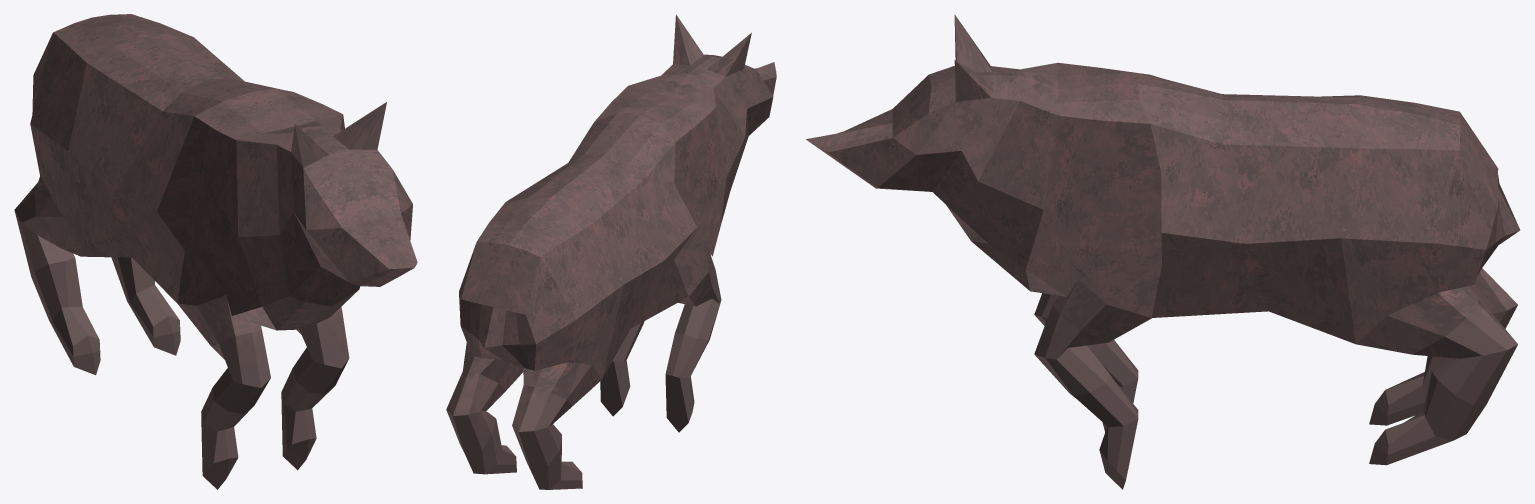
Rendered from piesblendtex_000028.obj.
3 views of the same model, side by side, from view 1: azimuth 30°, elevation 25°; view 2: azimuth 150°, elevation 25°; view 3: azimuth 270°, elevation 25° (orthographic). The views are drawn at different scales.
Visible parts, largest first — view 1: Cube; view 2: Cube; view 3: Cube.
Boxes of the visible parts, <box> form: Cube: <box>14,14,417,489</box>; Cube: <box>446,14,776,489</box>; Cube: <box>806,14,1520,489</box>.
Bounding box in the file's own units: 2.56 × 6.4 × 9.56.
